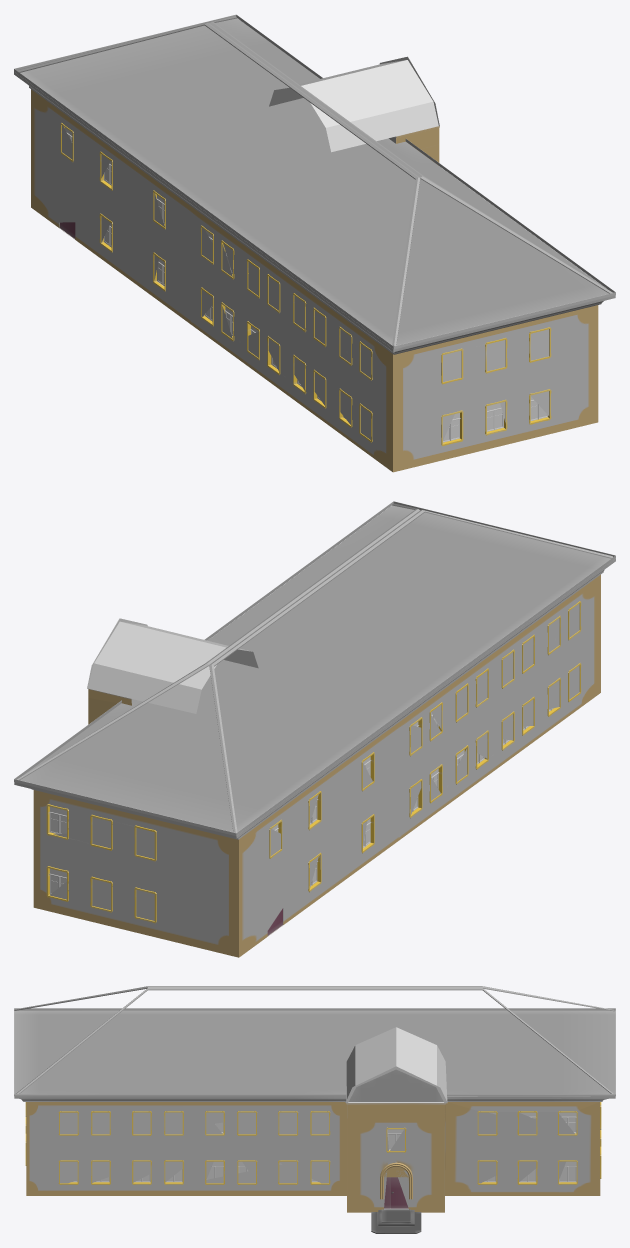
File: suida1.fbx
3 renders of one model, top to bottom at view 1: azimuth 30°, elevation 25°; view 2: azimuth 150°, elevation 25°; view 3: azimuth 270°, elevation 25°, orthographic. The views are drawn at different scales.
Parts seen in each view (by area): view 1: Cube, Cube.009, Cube.014, Plane, Cube.007, Cube.008; view 2: Cube, Cube.009, Cube.014, Plane, Cube.007, Cube.002; view 3: Cube, Cube.009, Cube.007, Plane, Cube.003, Cube.001, Cube.011, Cube.010, Cylinder.
Part boxes in pixels (left/top/right/bottom): Cube: left=14, top=18, right=615, bottom=472; Cube.009: left=269, top=56, right=439, bottom=152; Cube.014: left=60, top=123, right=372, bottom=442; Plane: left=17, top=16, right=612, bottom=346; Cube.007: left=14, top=14, right=615, bottom=349; Cube.008: left=441, top=327, right=551, bottom=446; Cube: left=14, top=505, right=615, bottom=957; Cube.009: left=87, top=618, right=258, bottom=713; Cube.014: left=269, top=601, right=581, bottom=892; Plane: left=17, top=503, right=612, bottom=832; Cube.007: left=14, top=501, right=615, bottom=835; Cube.002: left=46, top=804, right=156, bottom=923; Cube: left=14, top=1010, right=615, bottom=1212; Cube.009: left=345, top=1027, right=447, bottom=1103; Cube.007: left=14, top=1008, right=615, bottom=1096; Plane: left=14, top=986, right=614, bottom=1093; Cube.003: left=58, top=1111, right=330, bottom=1184; Cube.001: left=477, top=1111, right=577, bottom=1184; Cube.011: left=371, top=1209, right=421, bottom=1233; Cube.010: left=384, top=1177, right=408, bottom=1208; Cylinder: left=380, top=1162, right=412, bottom=1199.
Bounding box in the file's own units: 484 × 319 × 1026.
Materials: 2 (2 with a texture image).
